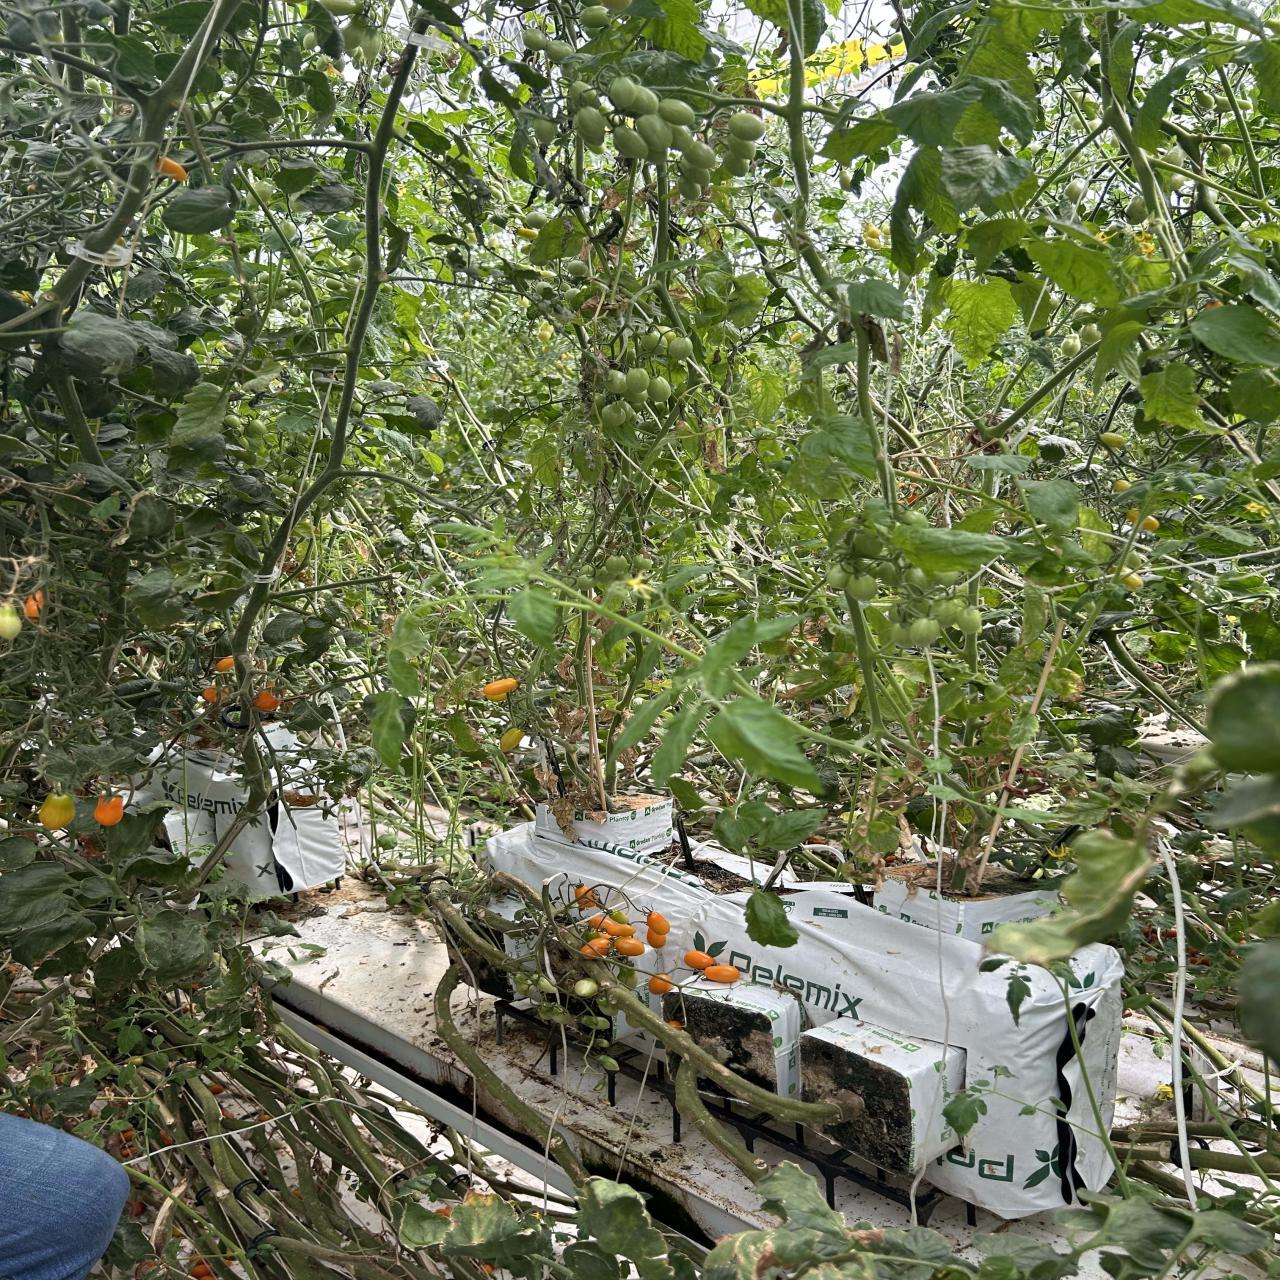Rugose leaf: (981, 822, 1152, 965), (944, 280, 1019, 368)
Rugose tomato: (573, 105, 606, 149), (636, 115, 672, 154), (728, 111, 767, 141), (613, 127, 647, 158), (658, 98, 695, 125), (683, 139, 716, 169), (536, 1000, 572, 1026), (629, 87, 660, 117), (608, 77, 636, 109), (0, 604, 23, 641), (681, 157, 710, 185), (670, 125, 696, 154), (722, 151, 749, 177), (580, 6, 611, 28), (728, 137, 756, 161), (532, 117, 556, 144), (678, 175, 701, 202), (547, 41, 574, 63), (530, 974, 558, 995), (578, 1014, 611, 1032), (508, 974, 530, 998), (573, 978, 599, 998), (523, 28, 546, 49), (597, 1054, 619, 1071)
